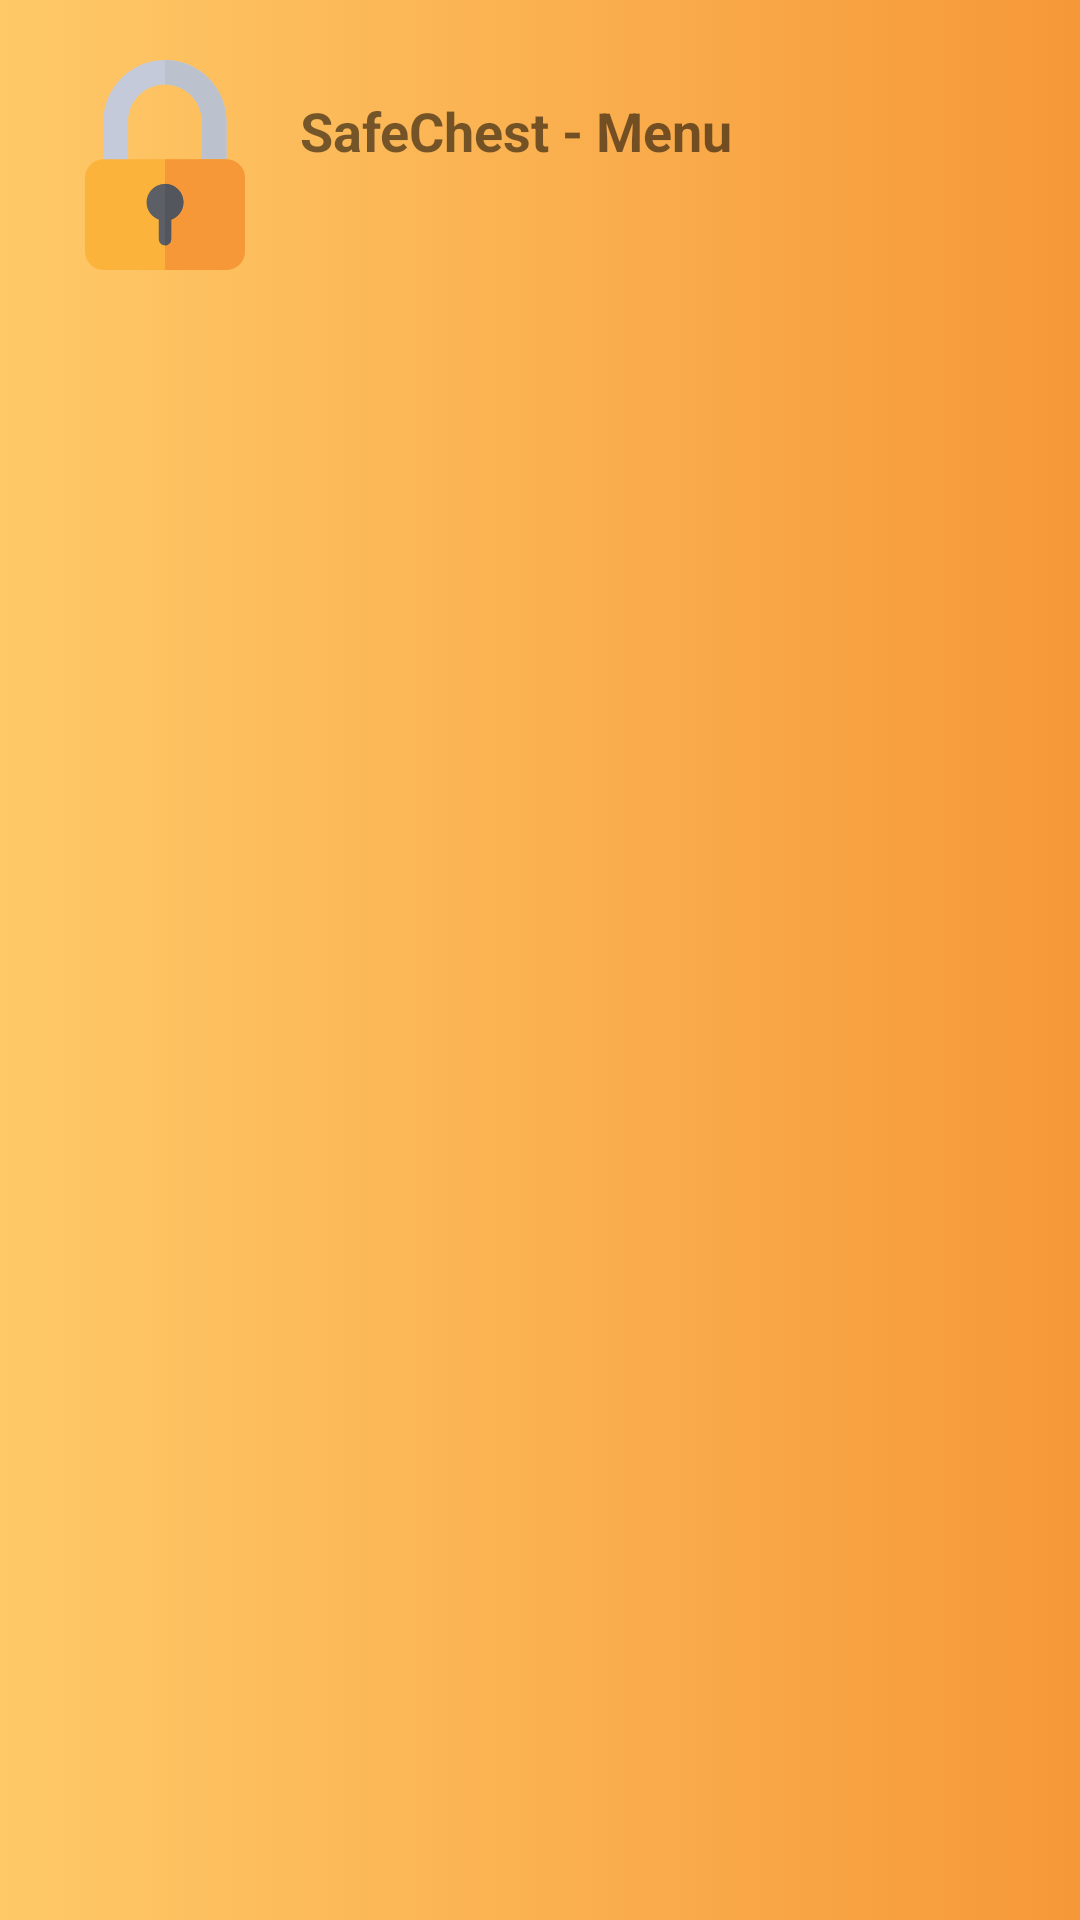

Locate icon controls on the screen. Image size 1080px×1920px, boxes as (x1, y1, x2, y2).
padlock: (85, 60, 245, 270)
